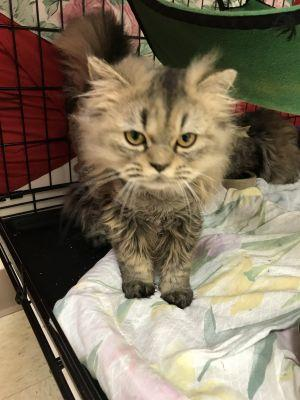persian: (71, 42, 247, 209)
